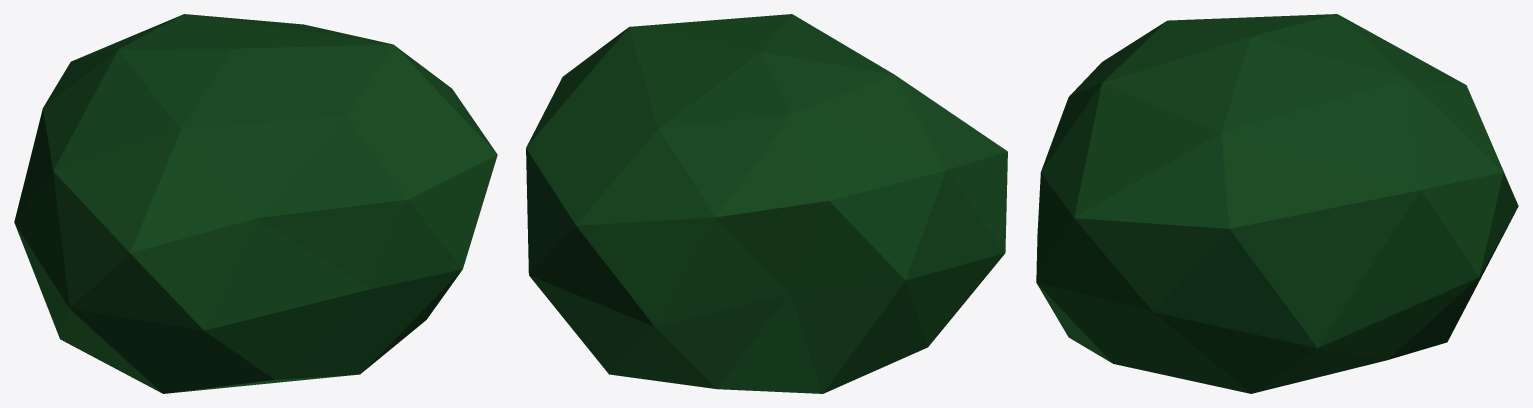
Rendered from bush_1x.fbx.
The picture shows the model from 3 angles, left to right: view 1: azimuth 30°, elevation 25°; view 2: azimuth 150°, elevation 25°; view 3: azimuth 270°, elevation 25°; orthographic projection. The views are drawn at different scales.
Parts seen in each view (by area): view 1: Icosphere.002; view 2: Icosphere.002; view 3: Icosphere.002.
Boxes of the visible parts, box(x1,y1,x2,y2) form: Icosphere.002: box(14, 14, 497, 393); Icosphere.002: box(526, 14, 1007, 393); Icosphere.002: box(1036, 14, 1518, 393).
Size of the model in its own units: 400 by 251 by 391.
